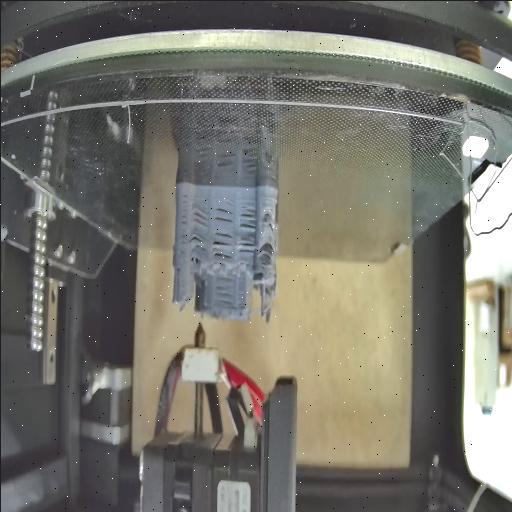cracks: (213, 274, 237, 306), (178, 190, 188, 254), (212, 230, 232, 260), (238, 206, 256, 232), (188, 230, 207, 254), (214, 202, 234, 224), (238, 236, 255, 258), (191, 202, 207, 225), (263, 242, 275, 262), (267, 218, 277, 232), (176, 265, 183, 279)
